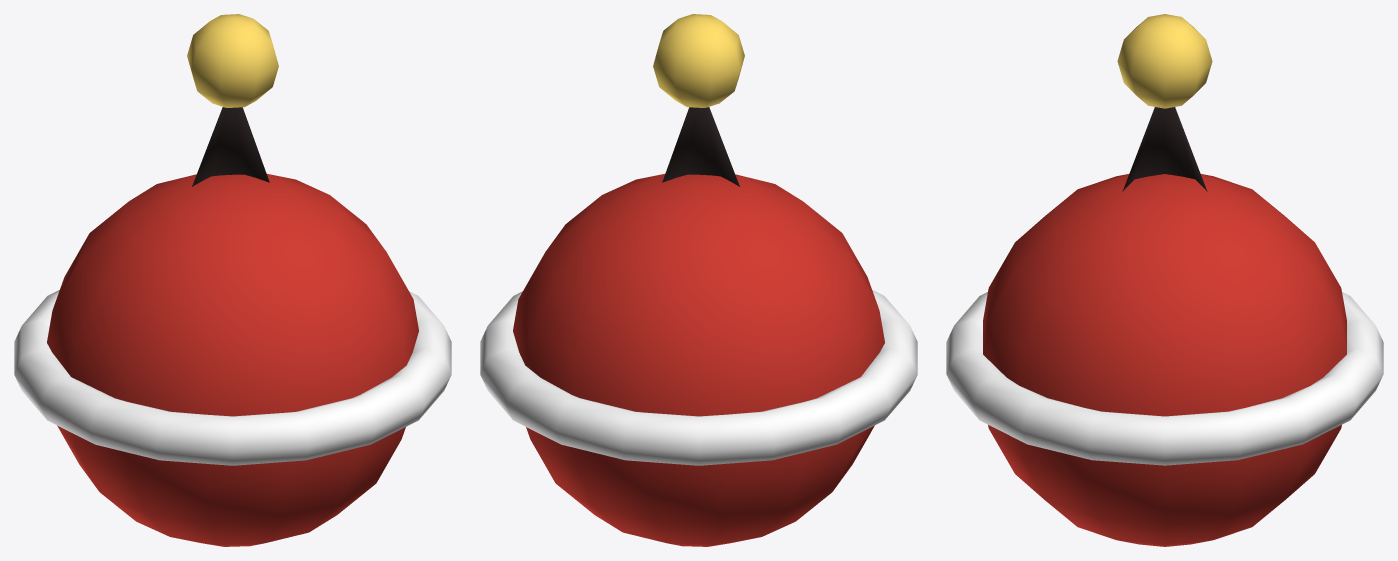
Rendered from bomber.glb.
The picture shows the model from 3 angles, left to right: view 1: azimuth 30°, elevation 25°; view 2: azimuth 150°, elevation 25°; view 3: azimuth 270°, elevation 25°; orthographic projection.
Visible parts, largest first — view 1: bomber; view 2: bomber; view 3: bomber.
Part boxes in pixels (x1,y1,x2,y2): bomber: (14, 14, 451, 546); bomber: (480, 14, 917, 546); bomber: (946, 14, 1383, 546).
Bounding box in the file's own units: 8.4 × 10.7 × 8.27.
1 material, 1 textured.
